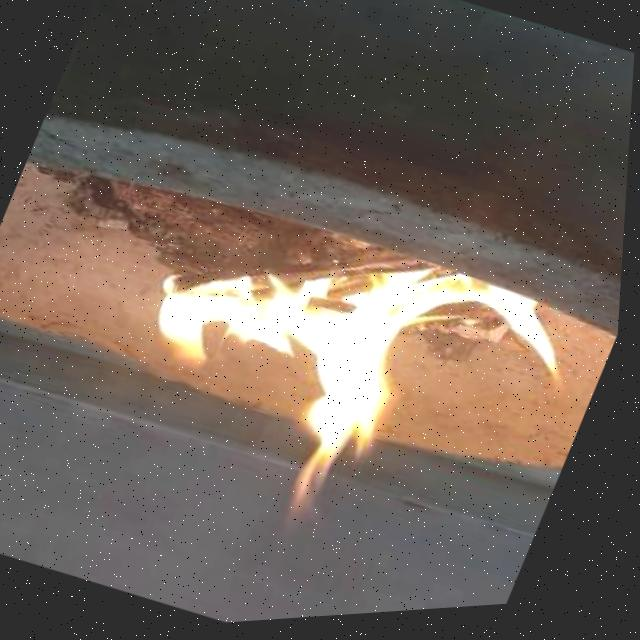Fire: (78, 170, 609, 621)
